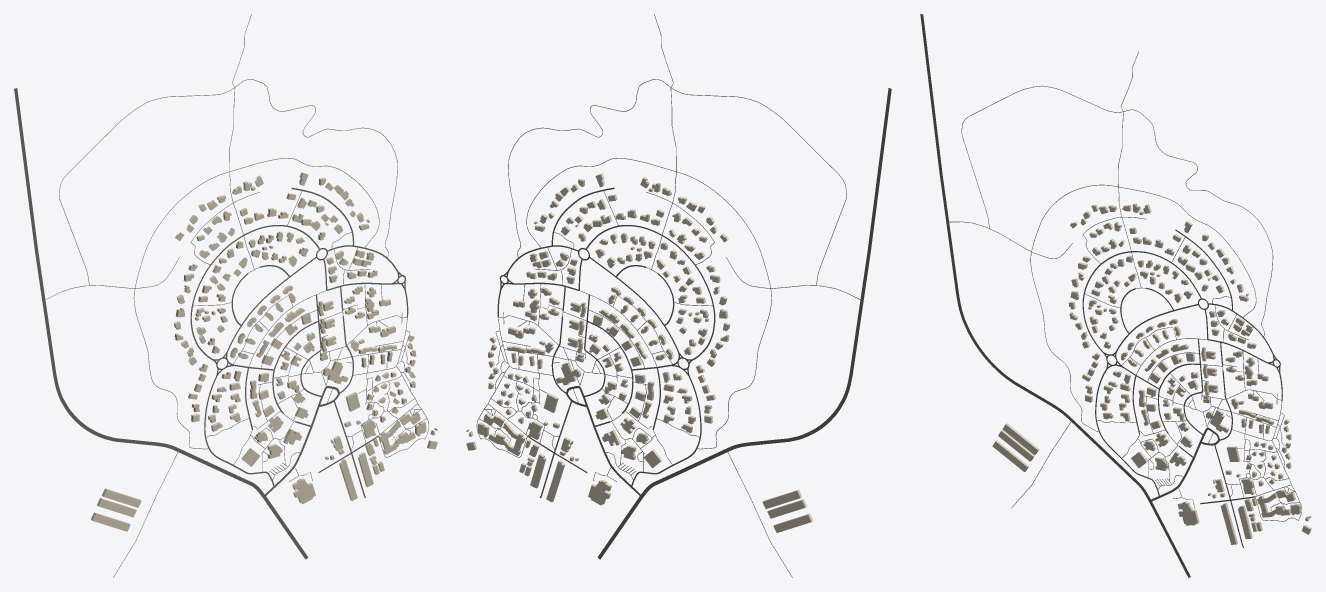
Rendered from historic-palestine-16_37_3577_3313.glb.
3 views of the same model, side by side, from view 1: azimuth 30°, elevation 25°; view 2: azimuth 150°, elevation 25°; view 3: azimuth 330°, elevation 25° (orthographic). The views are drawn at different scales.
Visible parts, largest first — view 1: Road 9882, Road .151, Road .088; view 2: Road 9882, Road .151, Road .088; view 3: Road 9882, Road .151, Road .088.
Part boxes in pixels (x1=…): Road 9882: x1=14, y1=88, x2=308, y2=559; Road .151: x1=59, y1=79, x2=397, y2=284; Road .088: x1=133, y1=158, x2=379, y2=449; Road 9882: x1=597, y1=88, x2=891, y2=559; Road .151: x1=508, y1=79, x2=846, y2=285; Road .088: x1=526, y1=158, x2=771, y2=449; Road 9882: x1=920, y1=14, x2=1190, y2=577; Road .151: x1=961, y1=85, x2=1273, y2=336; Road .088: x1=1030, y1=184, x2=1256, y2=431.
Size of the model in its own units: 1049 by 1322 by 8.7.
